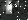person: (5, 1, 13, 15), (13, 2, 19, 15)
